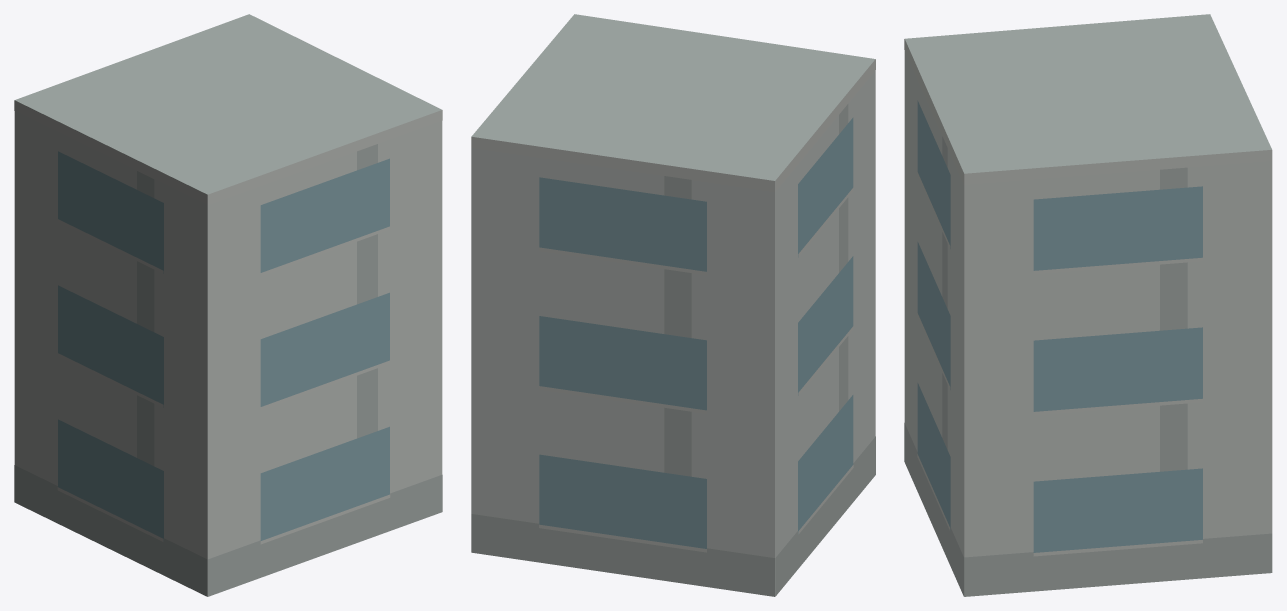
The model's file is survey-upis-32679436.glb.
3 renders of one model, left to right at view 1: azimuth 30°, elevation 25°; view 2: azimuth 150°, elevation 25°; view 3: azimuth 270°, elevation 25°, orthographic. The views are drawn at different scales.
Visible parts, largest first — view 1: survey-upis-32679436.tmp; view 2: survey-upis-32679436.tmp; view 3: survey-upis-32679436.tmp.
Part boxes in pixels (x1,y1,x2,y2): survey-upis-32679436.tmp: [14, 14, 442, 596]; survey-upis-32679436.tmp: [471, 14, 875, 596]; survey-upis-32679436.tmp: [904, 14, 1272, 596].
Size of the model in its own units: 7.42 by 9.15 by 7.22.
